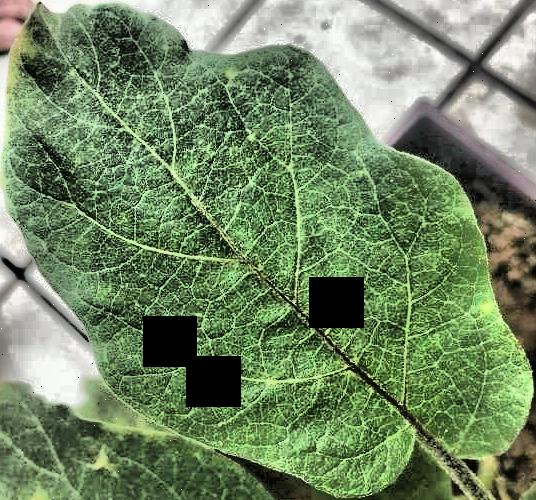HEALTHY: (1, 1, 536, 500)
